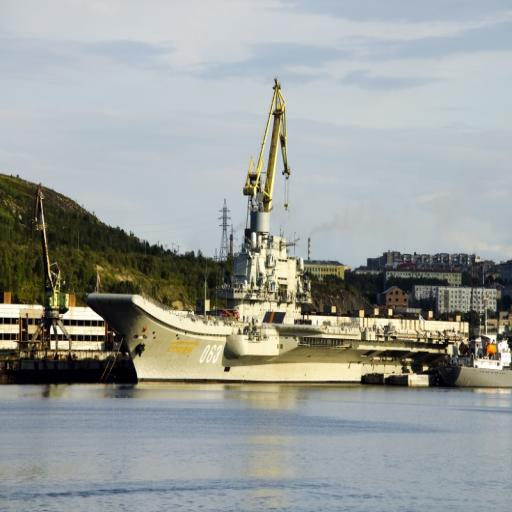Portanaves: (82, 207, 472, 387)
